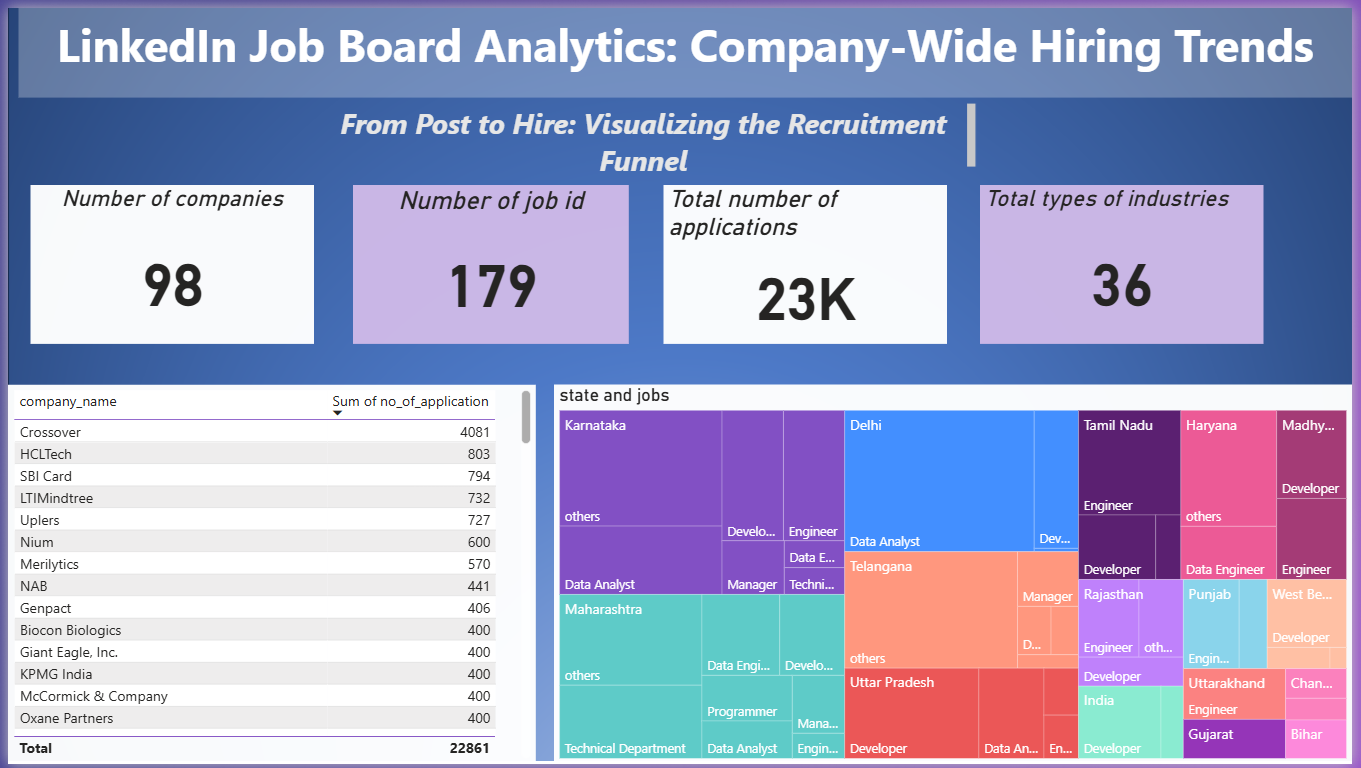

The dashboard page shown, as its layout file describes it:
{"tool":"powerbi","page":{"name":"Page 1","canvas":[1280,720],"ordinal":0},"visuals":[{"type":"textbox","box":[9.4,0,1269.9,85],"z":0},{"type":"textbox","box":[291,85,635,83.2],"z":1000},{"type":"card","fields":{"Values":["Count(linkdin_Job_data.job_ID)"]},"box":[328.8,168.2,262.7,151.2],"z":2000},{"type":"card","fields":{"Values":["Count(linkdin_Job_data.company_name)"]},"box":[20.8,168.2,270.2,151.2],"z":3000},{"type":"card","fields":{"Values":["Sum(linkdin_Job_data.no_of_application)"]},"box":[623.6,168.2,270.2,151.2],"z":4000},{"type":"card","fields":{"Values":["Count(linkdin_Job_data.type_of_industry)"]},"box":[926,168.2,270.2,151.2],"z":5000},{"type":"treemap","fields":{"Group":["linkdin_Job_data.State"],"Values":["Sum(linkdin_Job_data.company_id)"],"Details":["linkdin_Job_data.job"]},"box":[519.7,359.1,759.7,360.9],"z":6000},{"type":"tableEx","fields":{"Values":["linkdin_Job_data.company_name","Sum(linkdin_Job_data.no_of_application)"]},"box":[0,359.1,502.7,360.9],"z":7000}]}

Visuals, with their boxes in screenshot pixels (x1, y1, x2, y2), scaled from the page's 1280x720 canvas onto the 1361x768 screenshot:
textbox: locate(10, 0, 1360, 91)
textbox: locate(309, 91, 985, 179)
card - Count(linkdin_Job_data.job_ID): locate(350, 179, 629, 341)
card - Count(linkdin_Job_data.company_name): locate(22, 179, 309, 341)
card - Sum(linkdin_Job_data.no_of_application): locate(663, 179, 950, 341)
card - Count(linkdin_Job_data.type_of_industry): locate(985, 179, 1272, 341)
treemap - linkdin_Job_data.State x Sum(linkdin_Job_data.company_id): locate(553, 383, 1360, 767)
tableEx - linkdin_Job_data.company_name x Sum(linkdin_Job_data.no_of_application): locate(0, 383, 535, 767)
